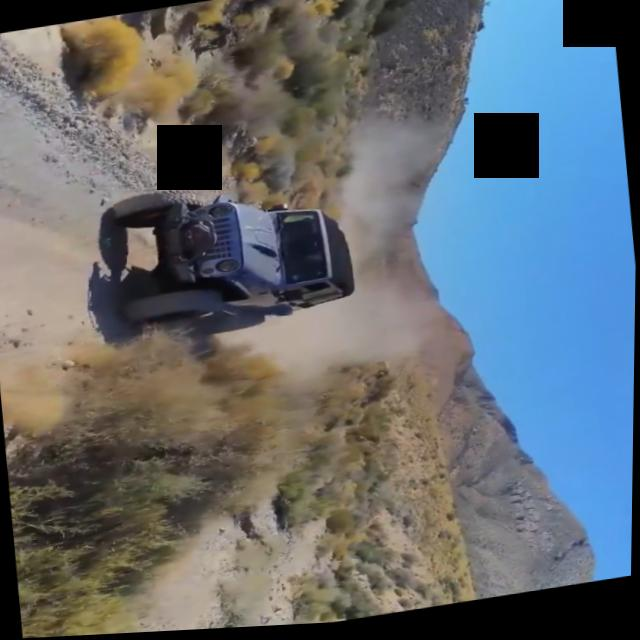Vehicle: (100, 162, 370, 362)
